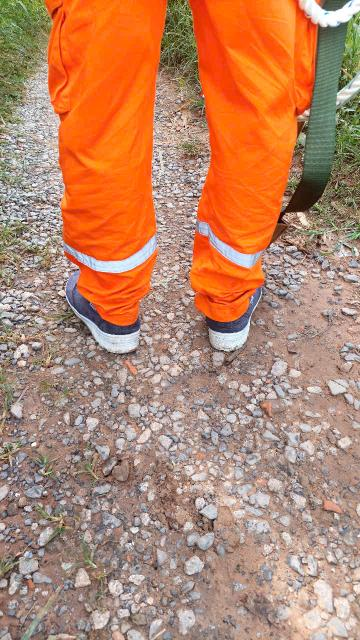shoes: (187, 266, 306, 366), (59, 252, 150, 364)
